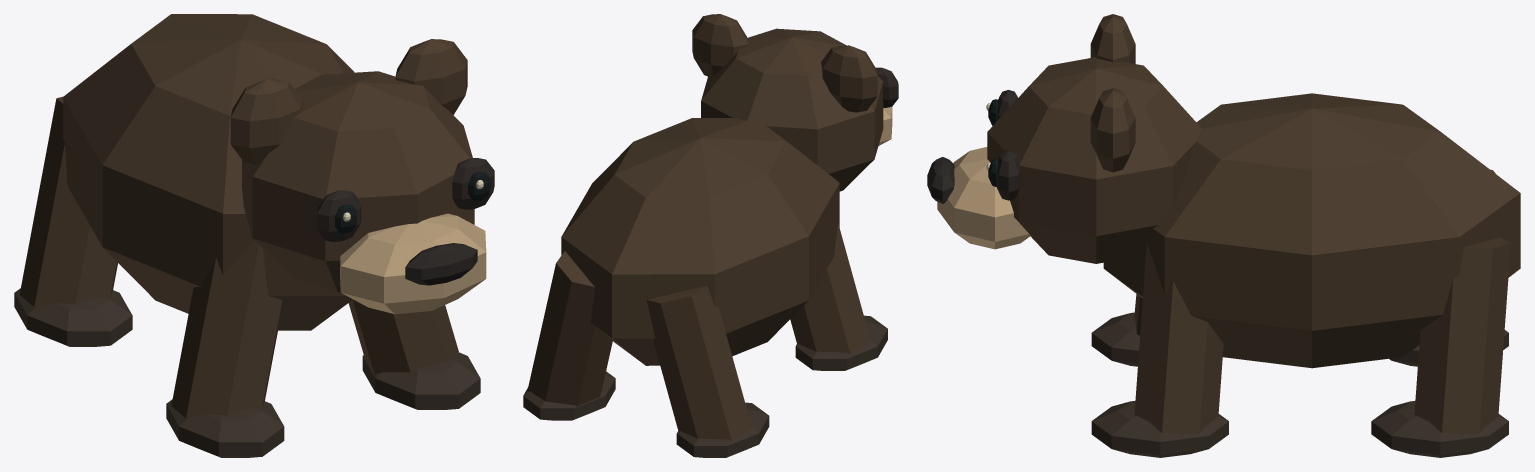
The model's file is fauna-oak_bear.glb.
The picture shows the model from 3 angles, left to right: view 1: azimuth 30°, elevation 25°; view 2: azimuth 150°, elevation 25°; view 3: azimuth 270°, elevation 25°; orthographic projection. The views are drawn at different scales.
Parts seen in each view (by area): view 1: Fauna_oak_bear; view 2: Fauna_oak_bear; view 3: Fauna_oak_bear.
Part boxes in pixels (bbox=[...]): Fauna_oak_bear: bbox=[14, 14, 494, 457]; Fauna_oak_bear: bbox=[523, 14, 898, 457]; Fauna_oak_bear: bbox=[927, 14, 1520, 457].
Bounding box in the file's own units: 0.9118 × 1.15 × 1.76.
